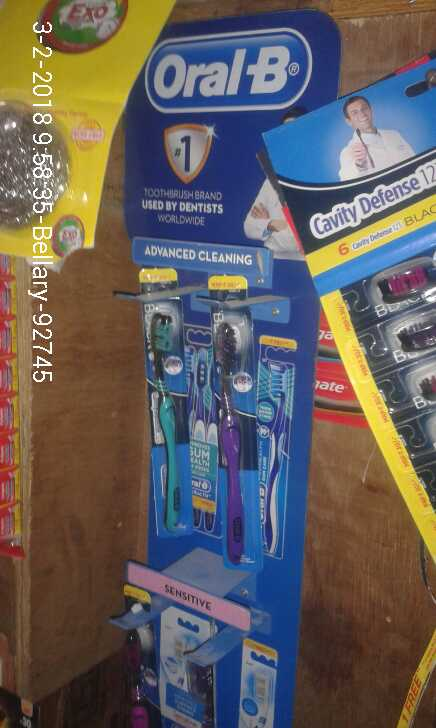oralb: (202, 298, 257, 570), (128, 302, 188, 540)
